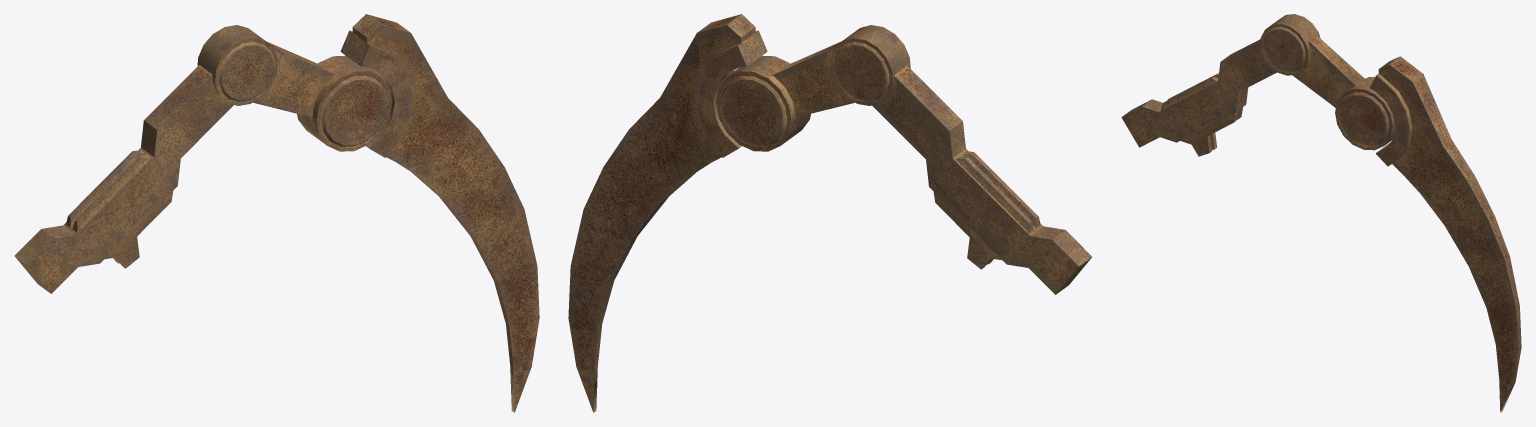
Rendered from spider_leg_prob.fbx.
The picture shows the model from 3 angles, left to right: view 1: azimuth 30°, elevation 25°; view 2: azimuth 150°, elevation 25°; view 3: azimuth 330°, elevation 25°; orthographic projection. The views are drawn at different scales.
Parts seen in each view (by area): view 1: Object008; view 2: Object008; view 3: Object008.
Part boxes in pixels (x1,y1,x2,y2): Object008: (14,14,539,412); Object008: (568,14,1091,412); Object008: (1121,14,1521,412).
Bounding box in the file's own units: 178 × 147 × 14.34.
